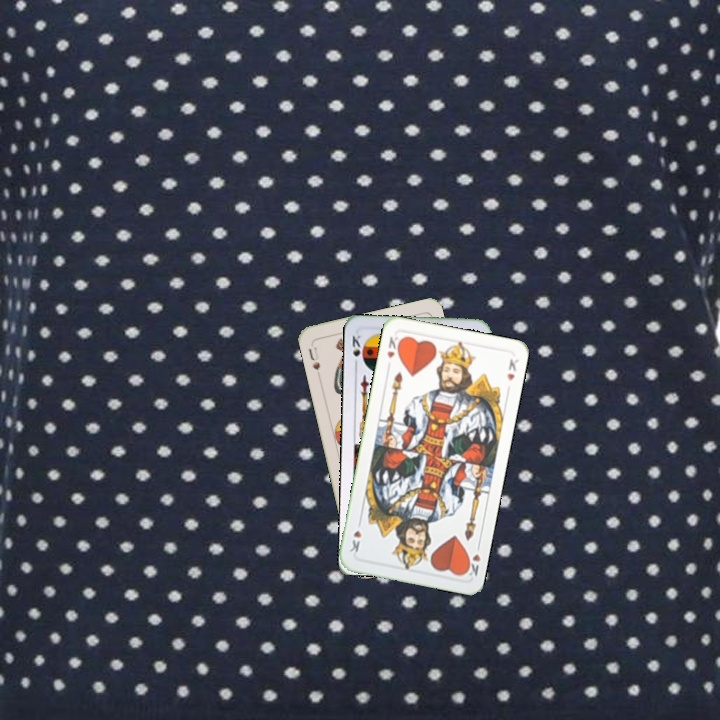HK: (461, 539, 483, 579), (383, 330, 404, 361)
SK: (348, 331, 367, 370)
SU: (304, 343, 323, 380)
